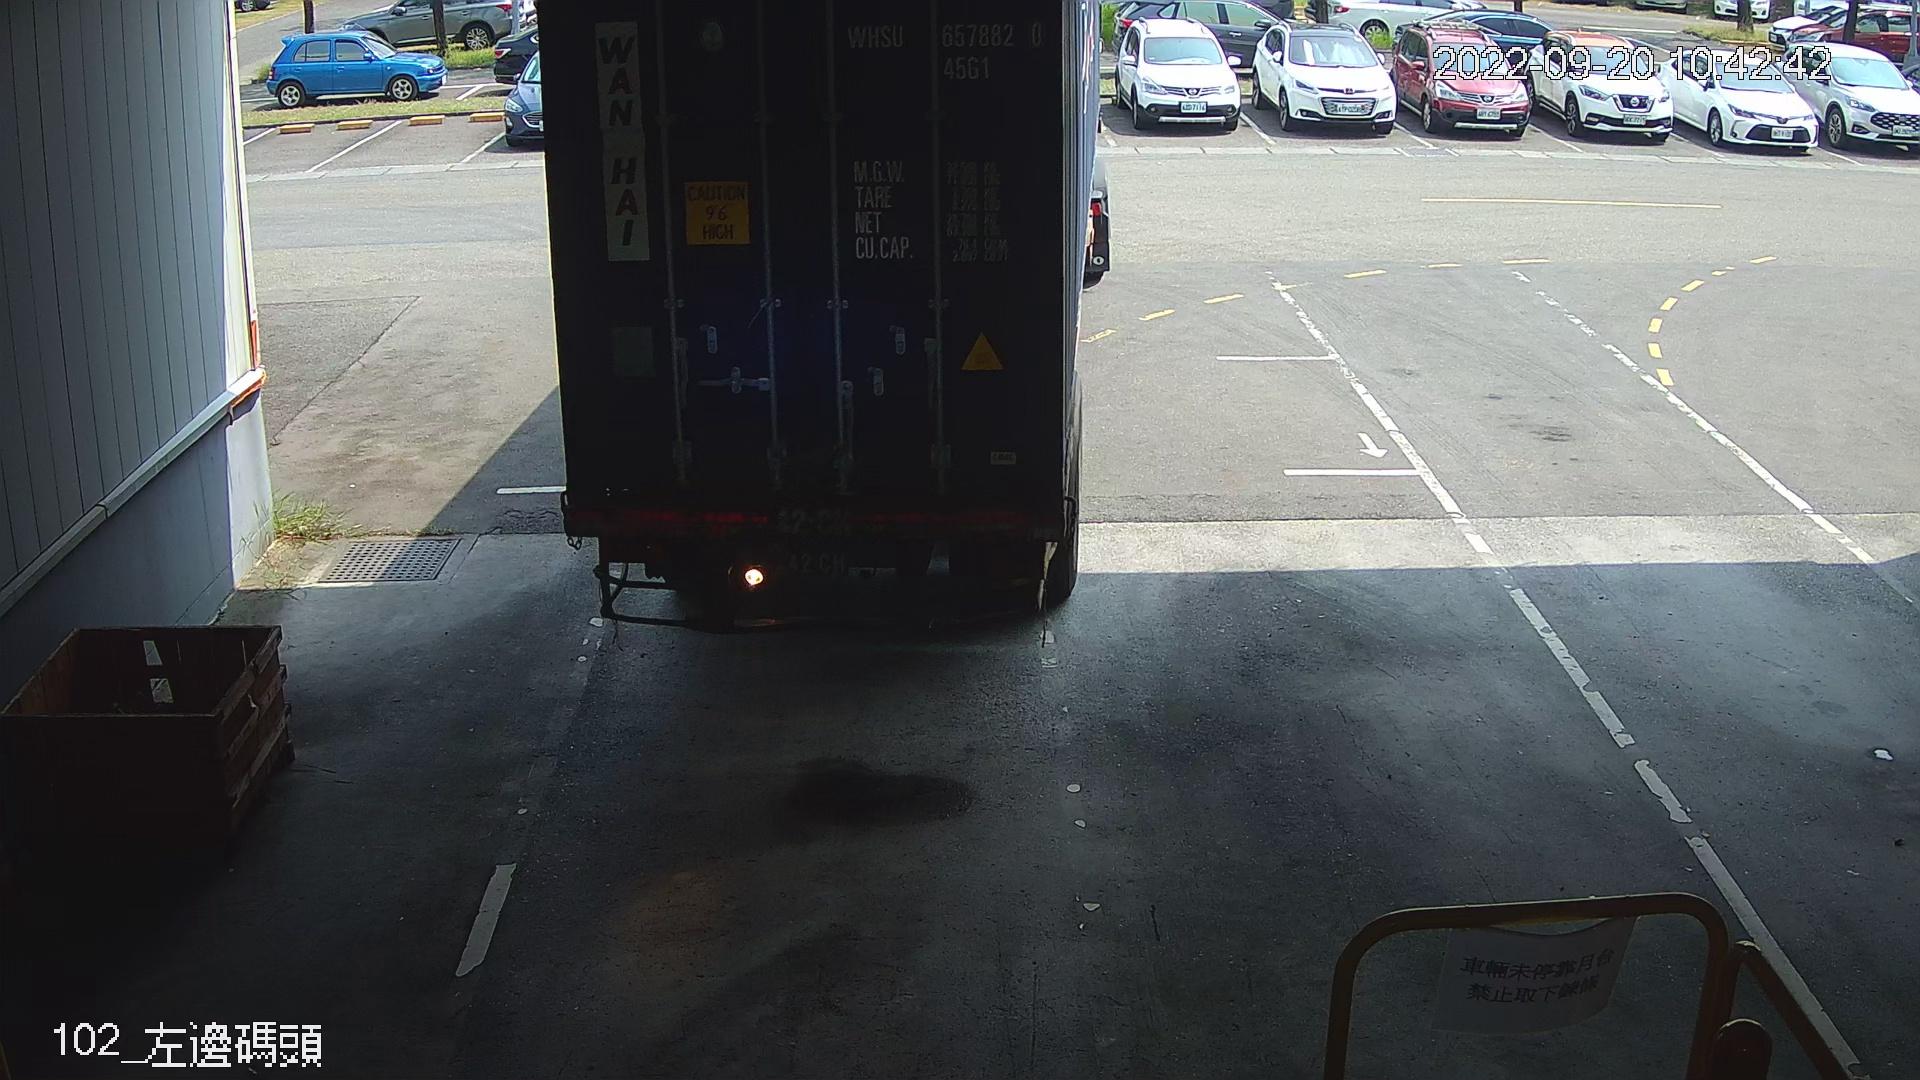container: (841, 13, 1054, 88)
